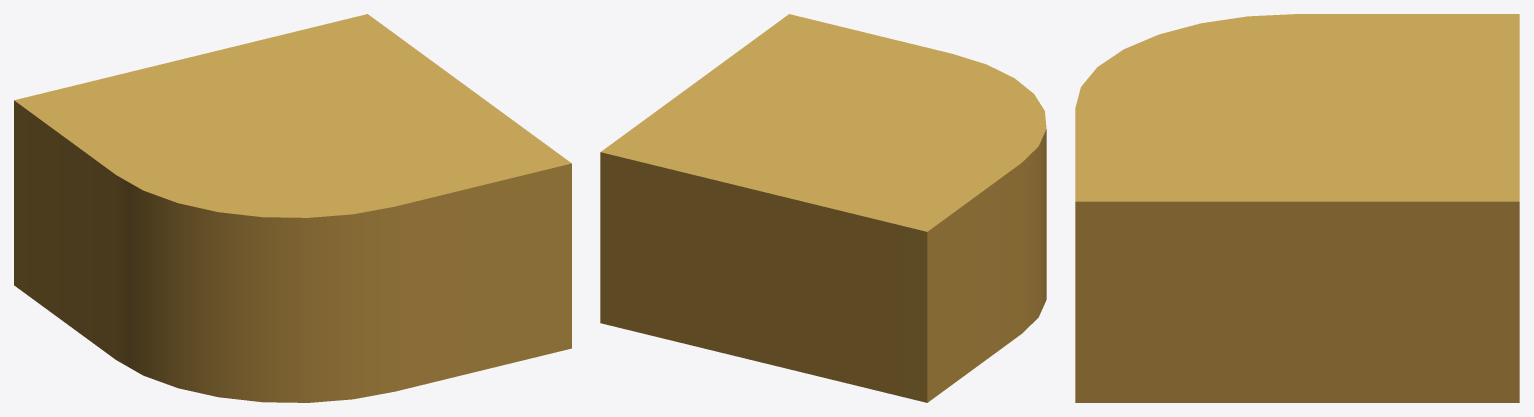
File: NF_Floor_00_Orange_03.fbx
The picture shows the model from 3 angles, left to right: view 1: azimuth 30°, elevation 25°; view 2: azimuth 150°, elevation 25°; view 3: azimuth 270°, elevation 25°; orthographic projection. The views are drawn at different scales.
Parts seen in each view (by area): view 1: NF_Floor_00_Orange_03; view 2: NF_Floor_00_Orange_03; view 3: NF_Floor_00_Orange_03.
Boxes of the visible parts, x1,y1,x2,y2 form: NF_Floor_00_Orange_03: (14,14,571,402); NF_Floor_00_Orange_03: (600,14,1046,402); NF_Floor_00_Orange_03: (1075,14,1519,402).
Bounding box in the file's own units: 2 × 1 × 2.
1 material, 1 textured.
